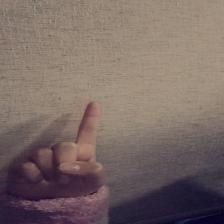one: (6, 97, 132, 214)
